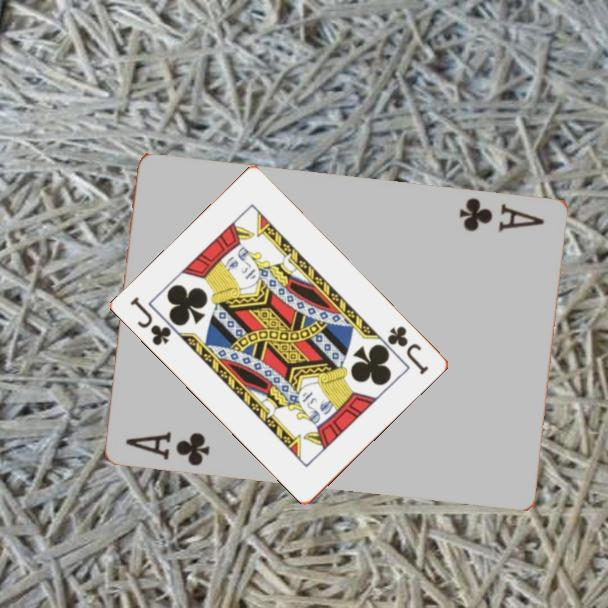c01: (122, 427, 214, 469), (456, 193, 548, 234)
c11: (384, 322, 432, 378), (127, 293, 175, 348)
